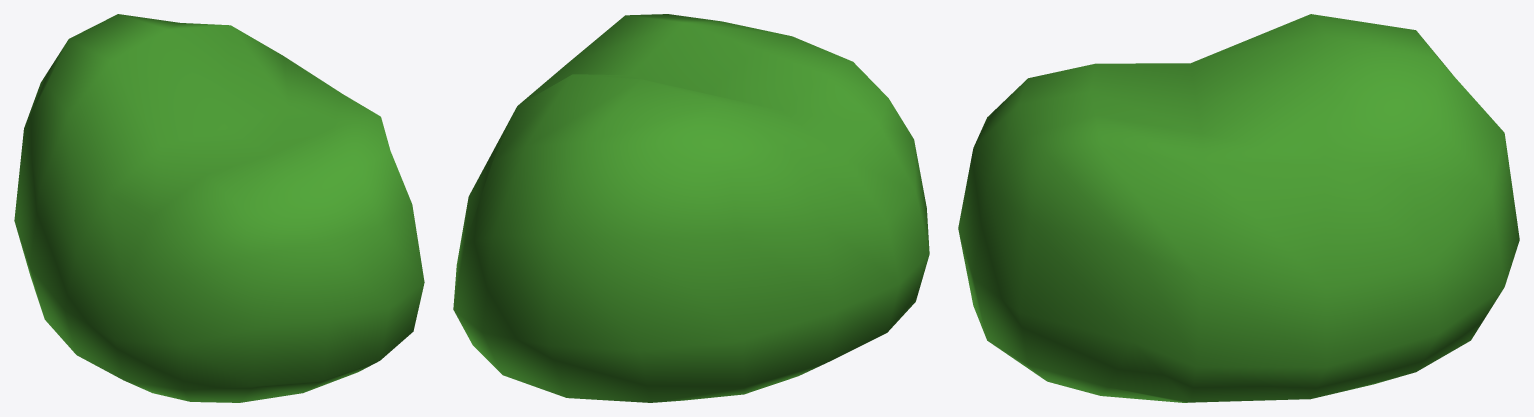
The model's file is Prop_Bush_02.fbx.
3 renders of one model, left to right at view 1: azimuth 30°, elevation 25°; view 2: azimuth 150°, elevation 25°; view 3: azimuth 270°, elevation 25°, orthographic. The views are drawn at different scales.
Visible parts, largest first — view 1: Prop_Bush_02; view 2: Prop_Bush_02; view 3: Prop_Bush_02.
Boxes of the visible parts, box(x1,y1,x2,y2) form: Prop_Bush_02: box(14, 14, 424, 402); Prop_Bush_02: box(453, 14, 929, 402); Prop_Bush_02: box(958, 14, 1519, 402).
Bounding box in the file's own units: 174 × 128 × 214.
